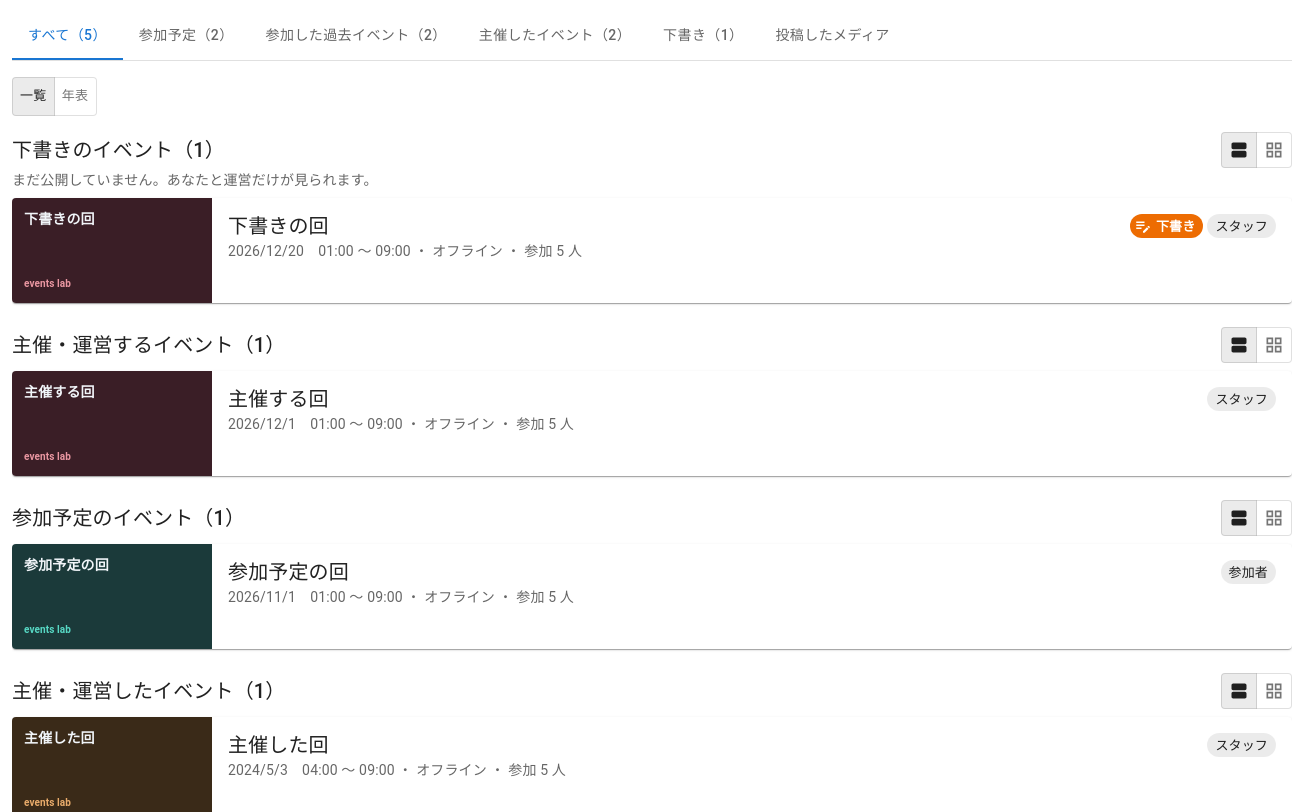
Test: 時間タブに主催イベントも出す (#416) › 下書きは時期のタブに混ざらない（従来どおり下書きタブのみ）
This screenshot has width=1304, height=812.
What coordinates should you click on to do the following:
click the tab "参加予定（2）"
I would click on:
 (186, 36)
Its box is [123, 12, 250, 60].
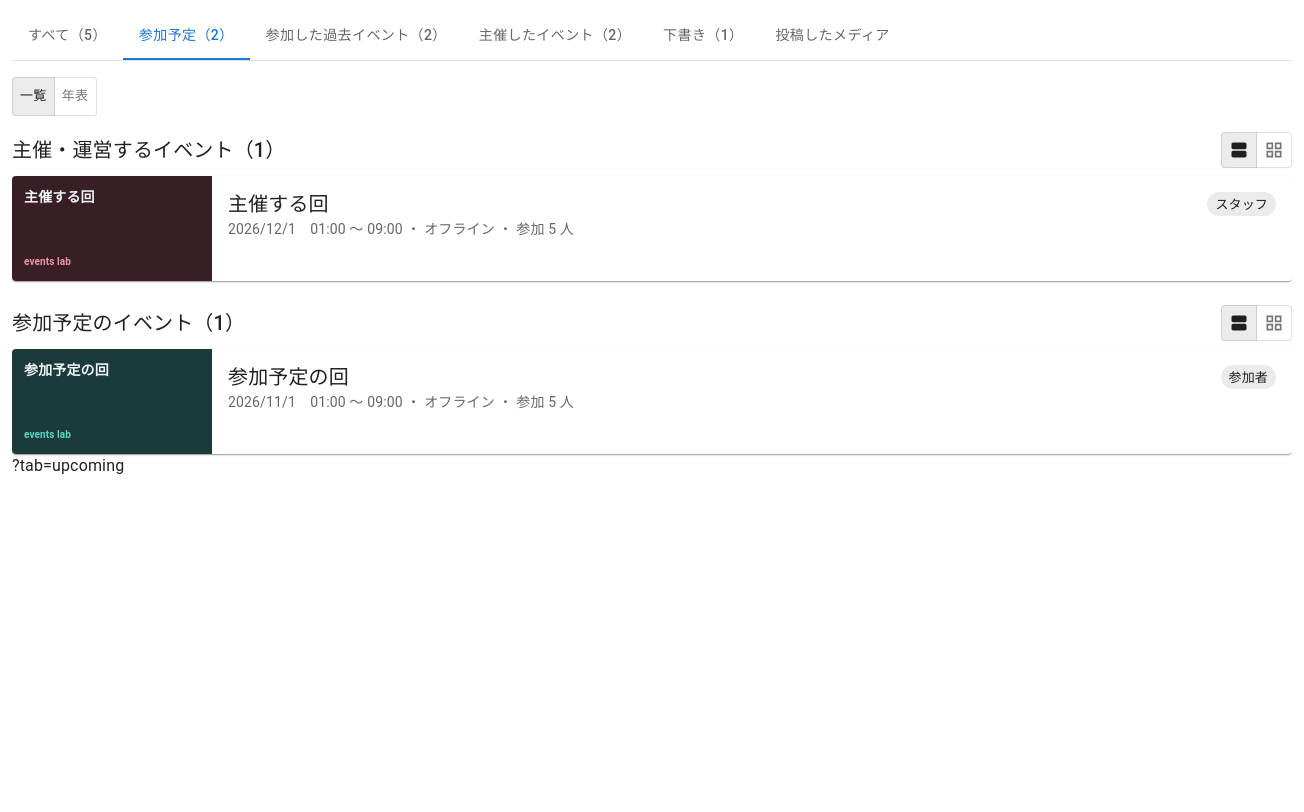
Expected: the link "下書きの回" is gone
